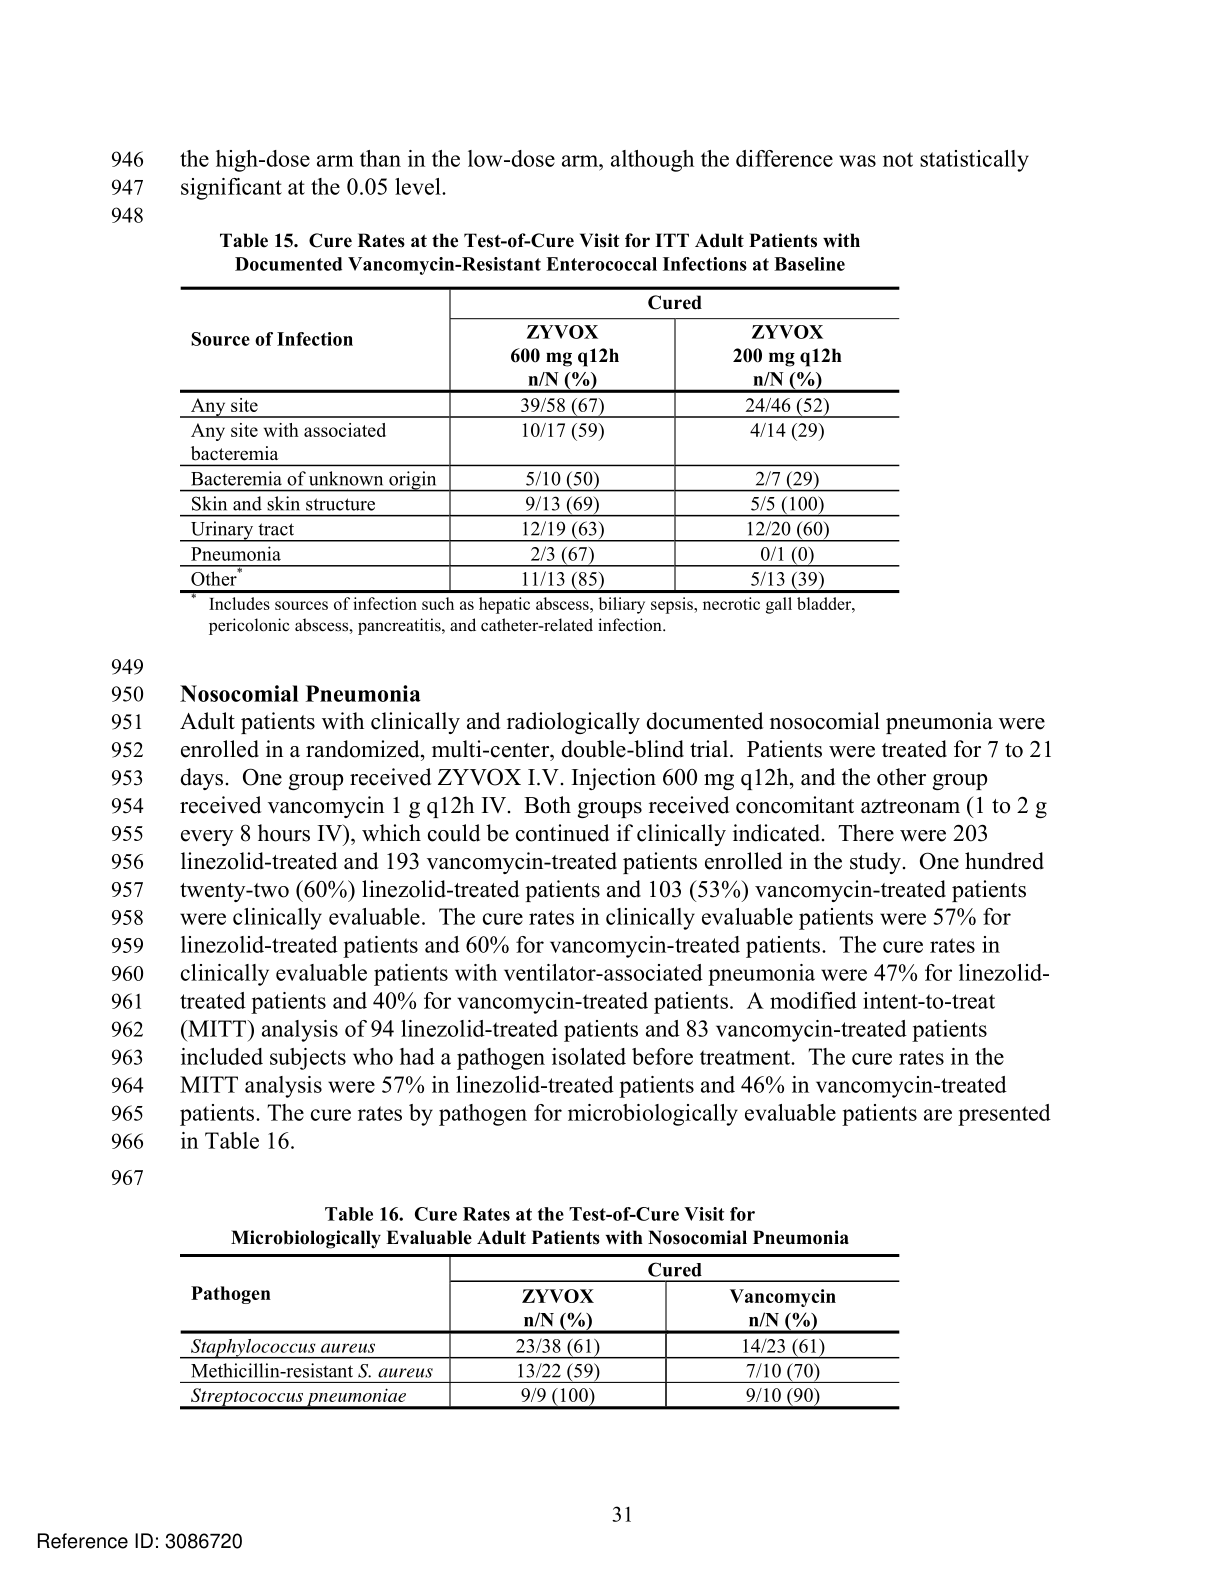partial_lined_merged_cells: (180, 285, 901, 594), (179, 1254, 901, 1410)
